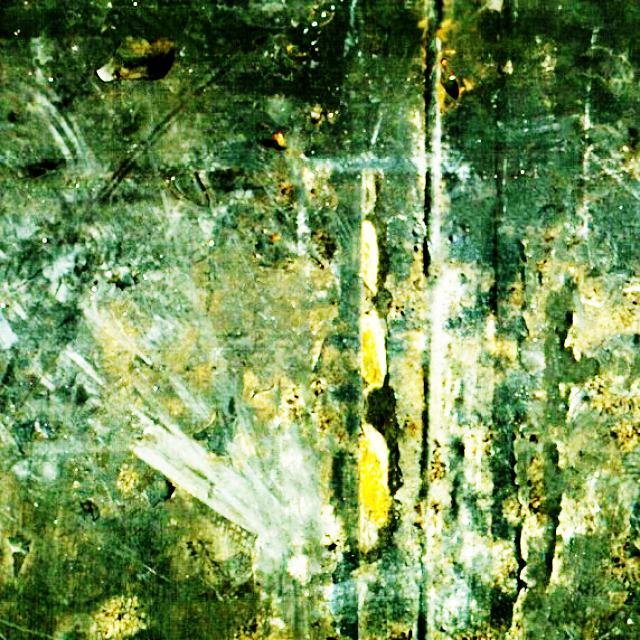Corrosion: (357, 425, 387, 519), (360, 312, 387, 388), (359, 222, 378, 293)
